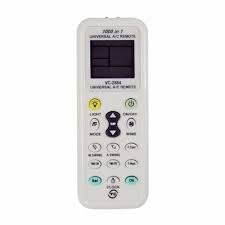remote control: (73, 13, 155, 208)
